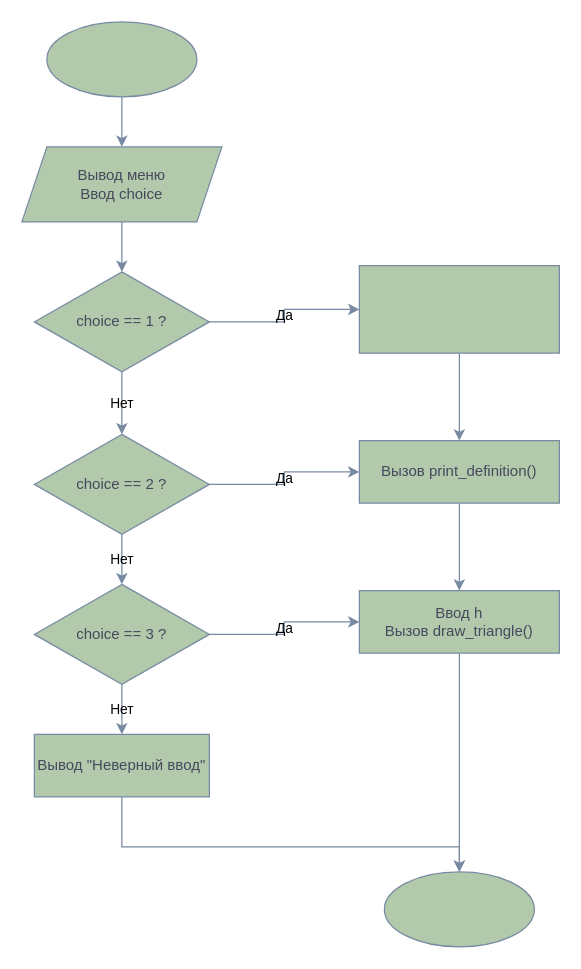
Image size: 581x969. Some labels were removed from this diagram. The box of each missing label's shape, as (x1, y1, x2, y2) in pixels:
Ввод a, h Вызов area_triangle() Вывод результата: (358, 264, 559, 353)
Конец: (383, 871, 534, 947)
Начало: (46, 21, 197, 97)
